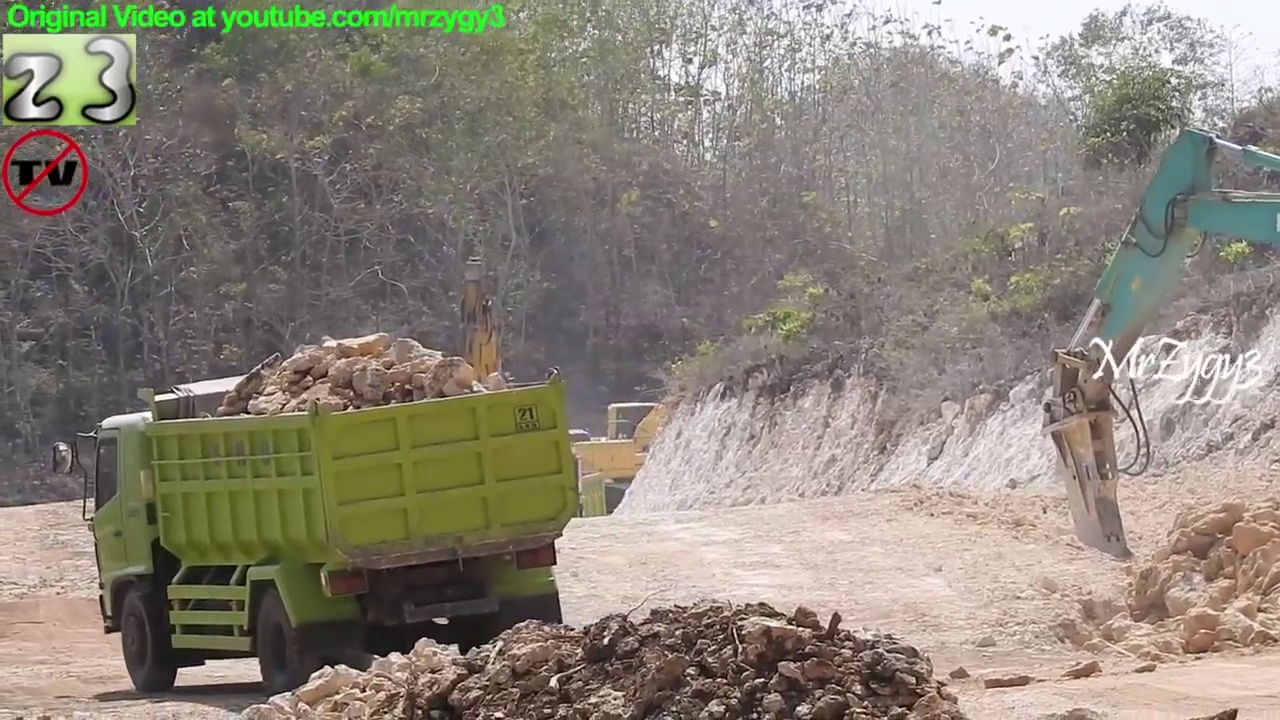excavator: (1033, 121, 1280, 566), (371, 247, 579, 565), (574, 374, 736, 524)
truck: (47, 330, 585, 706), (546, 451, 630, 531)
